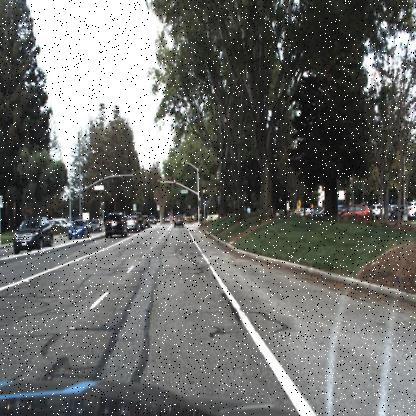car: (13, 216, 54, 256), (335, 200, 372, 222), (100, 208, 126, 236), (67, 216, 91, 240), (106, 213, 127, 237), (88, 215, 104, 236), (372, 198, 388, 219), (125, 213, 140, 232), (172, 212, 185, 231), (124, 214, 136, 233)
trafficLight-Red: (199, 186, 207, 202), (172, 178, 176, 193), (156, 176, 160, 189)
